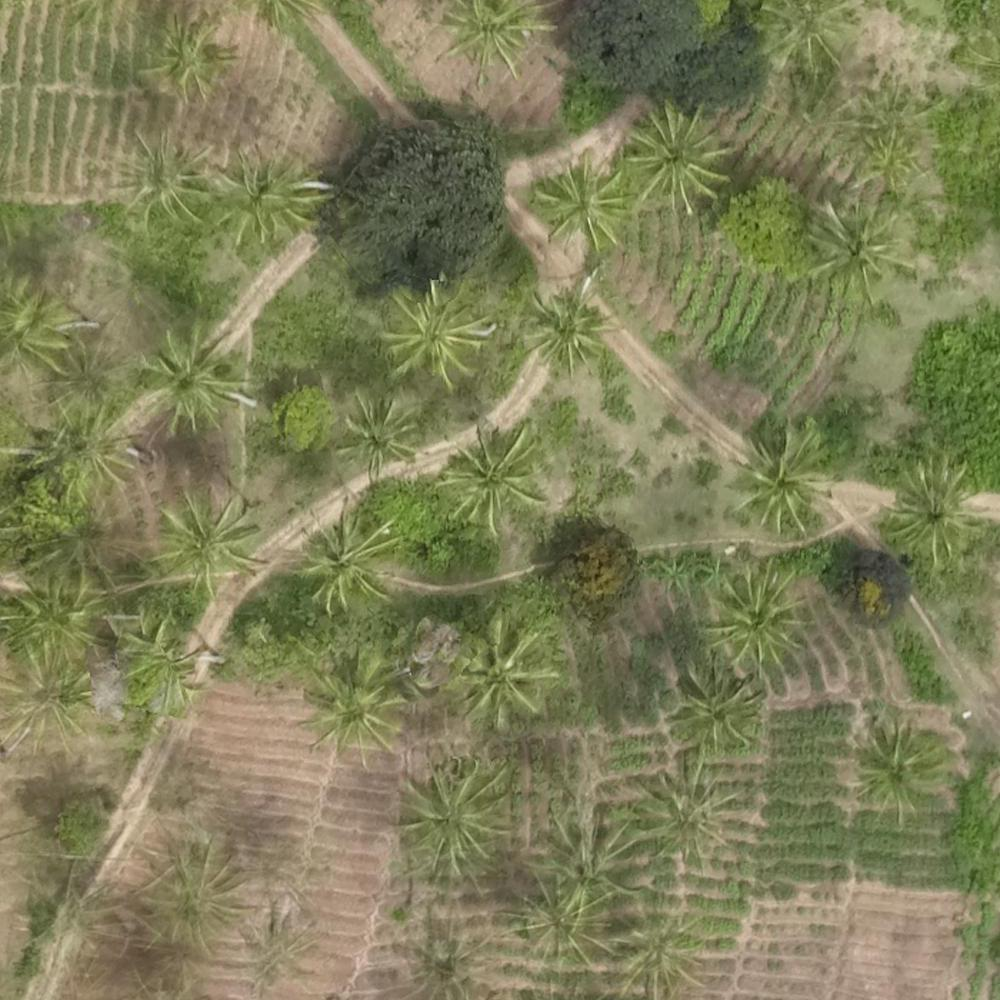Palm: (883, 457, 983, 564), (732, 427, 831, 535), (154, 489, 263, 585), (707, 564, 805, 669), (444, 417, 540, 523), (849, 718, 951, 817), (380, 284, 481, 383), (304, 651, 400, 755), (625, 106, 724, 206), (402, 768, 500, 868), (449, 619, 544, 722), (113, 128, 213, 223), (143, 332, 235, 432), (640, 761, 738, 852), (446, 1, 547, 86), (809, 201, 902, 292), (664, 667, 764, 751), (300, 509, 391, 600), (531, 154, 624, 242), (221, 148, 310, 239), (524, 284, 613, 371), (336, 391, 418, 474), (151, 19, 234, 93)
